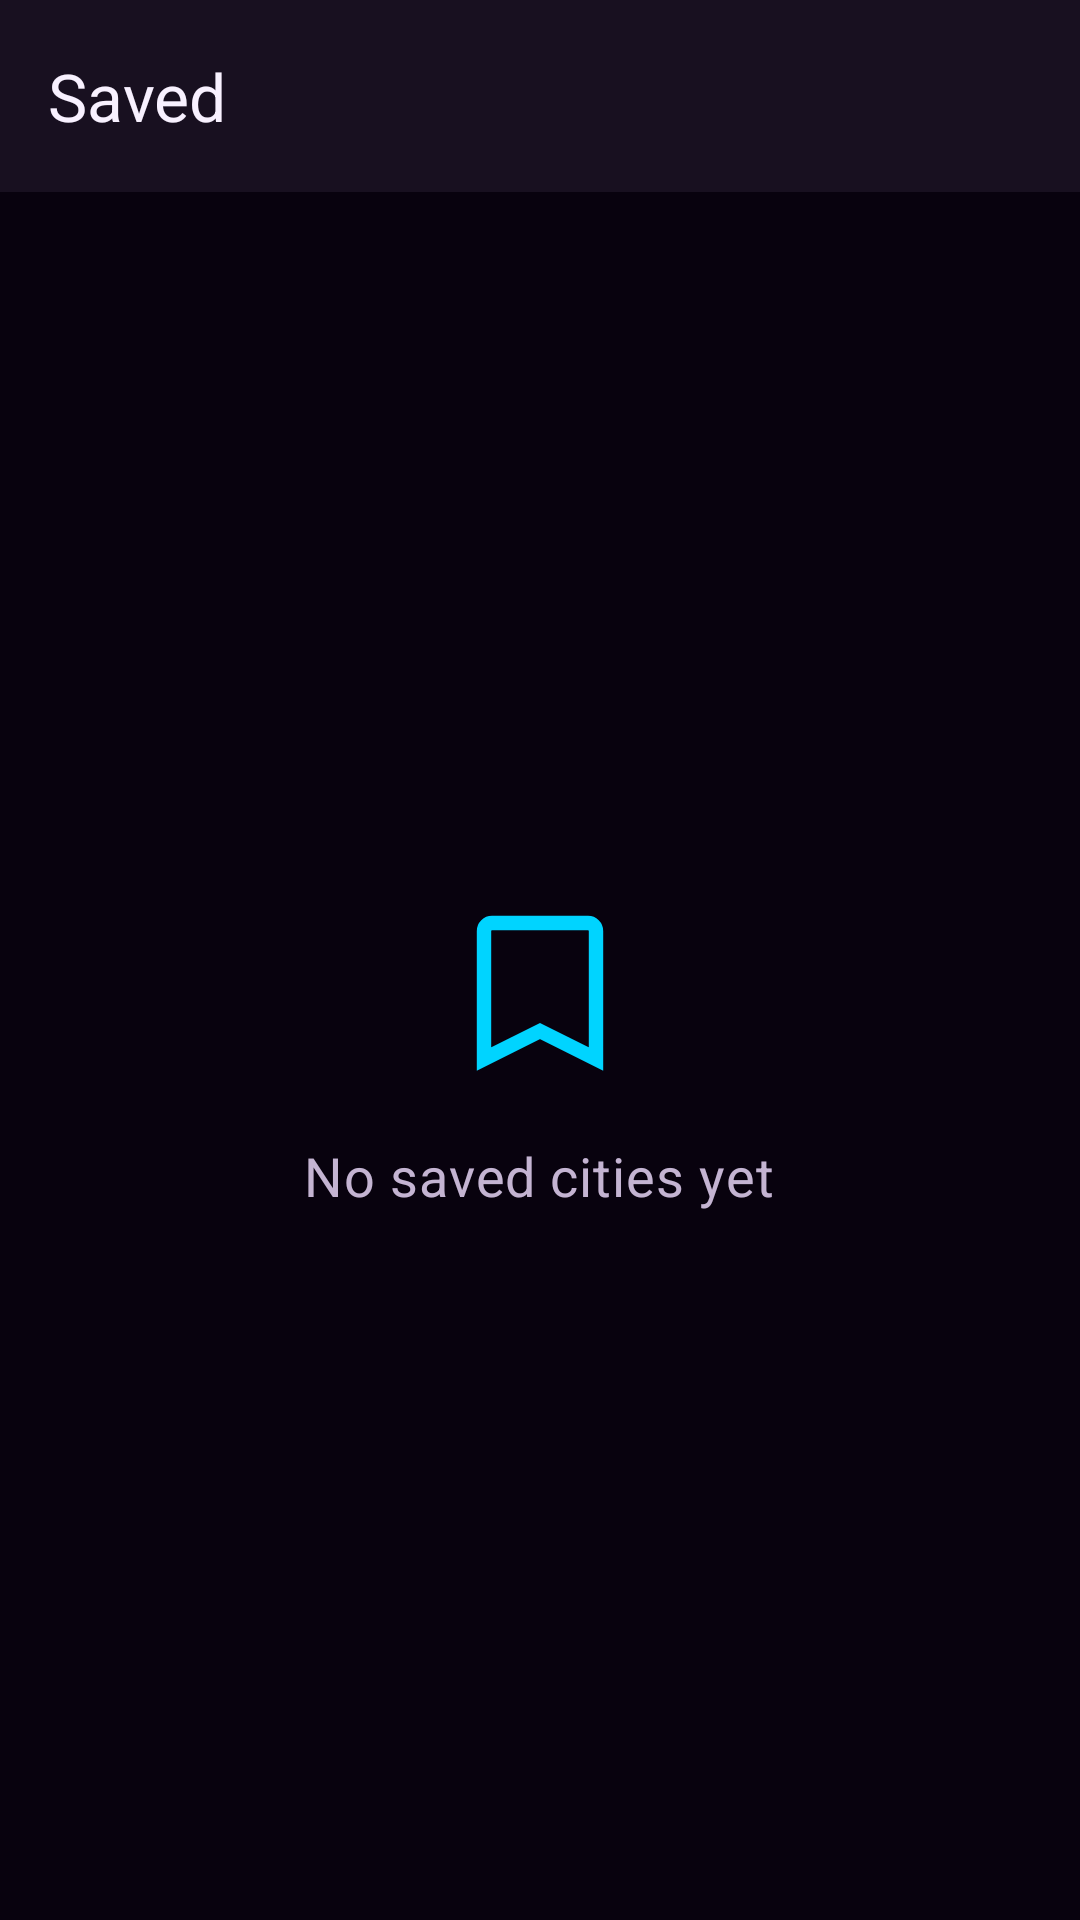

Point at icon controls on the screen. Image size 1080*1920, points as [x,y].
Empty saved cities icon: [540,993]
